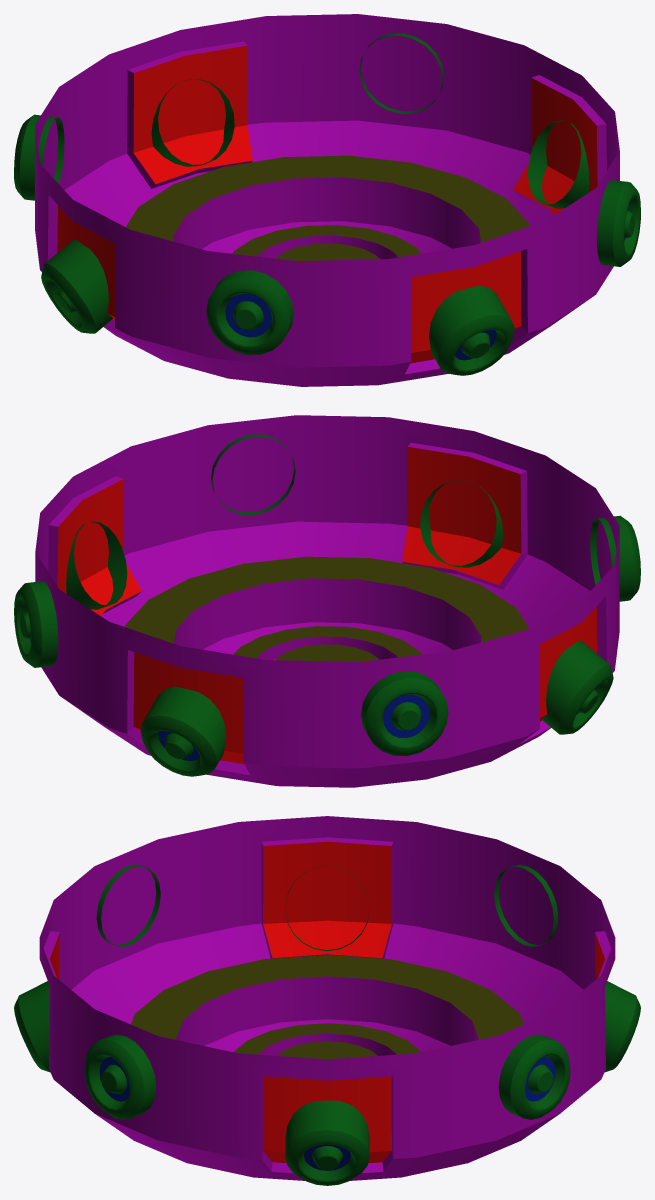
The model's file is OBJ_Socle.fbx.
3 views of the same model, one above another, from view 1: azimuth 30°, elevation 25°; view 2: azimuth 150°, elevation 25°; view 3: azimuth 270°, elevation 25° (orthographic). The views are drawn at different scales.
Parts seen in each view (by area): view 1: OBJ_Socle; view 2: OBJ_Socle; view 3: OBJ_Socle.
Boxes of the visible parts, x1,y1,x2,y2 form: OBJ_Socle: [14, 14, 640, 386]; OBJ_Socle: [14, 415, 640, 787]; OBJ_Socle: [14, 816, 640, 1185].
Bounding box in the file's own units: 10.89 × 3.04 × 10.89.
